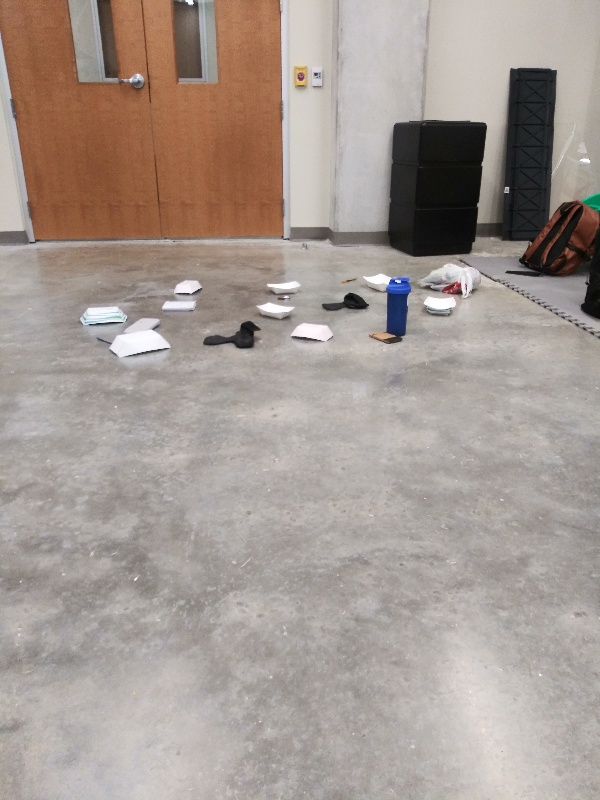plate: (104, 325, 178, 362), (77, 301, 134, 330), (285, 320, 337, 345), (419, 292, 463, 318), (262, 275, 305, 299), (357, 270, 394, 295), (171, 277, 208, 301), (253, 300, 299, 316)
